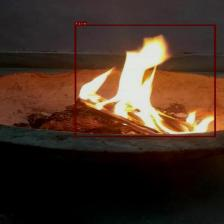fire: (75, 24, 216, 137)
